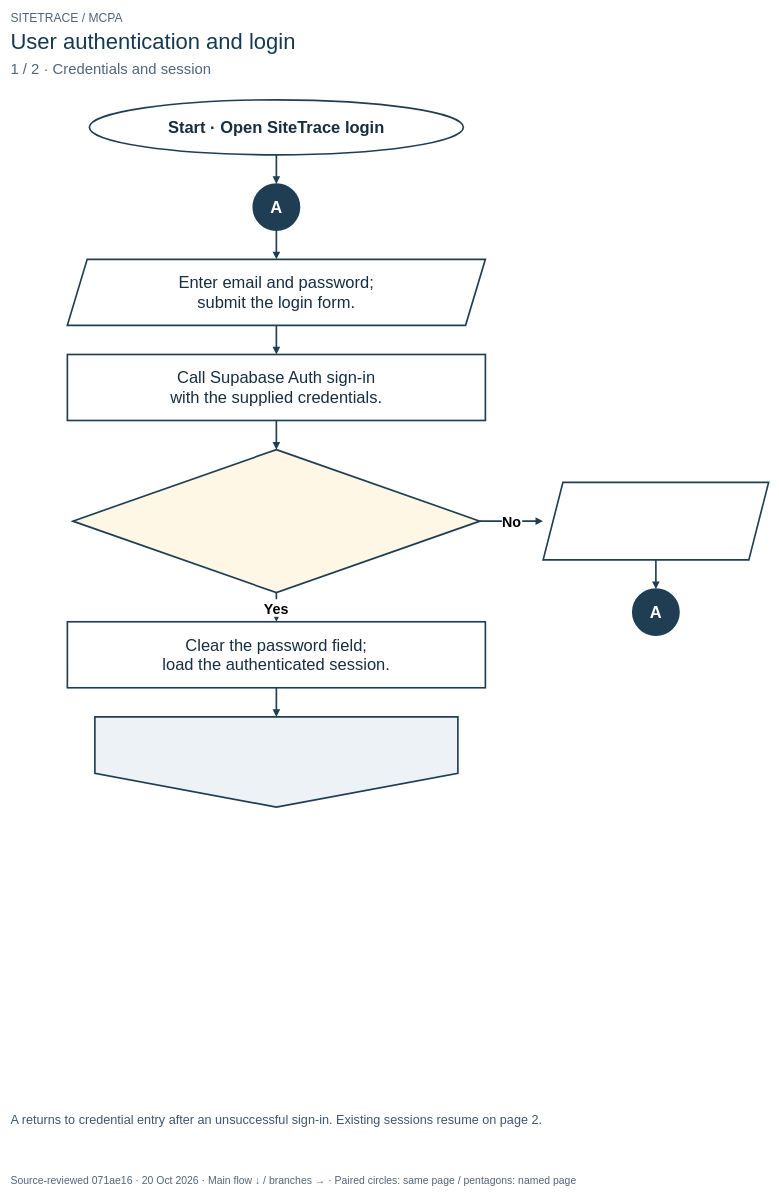
Some shapes in this 779 by 1198 pixel diagram are drawn without their labels. The shapes that lost their labels are listed below. From the top down, each one's centre as x and y in pixels, then its label:
the point at 276,521: Sign-in successful?
the point at 655,520: Show credential, email confirmation or network error; retain login form.
the point at 276,762: B · To page 2 Validate company profile
